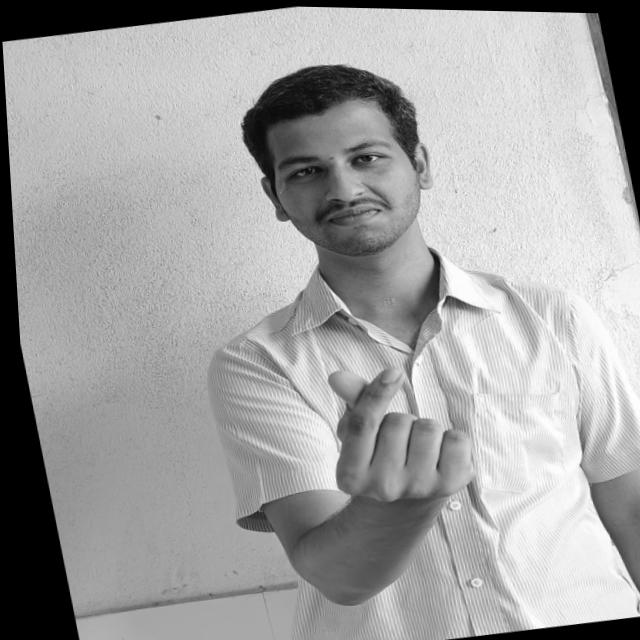Grattitude: (305, 348, 479, 513)
